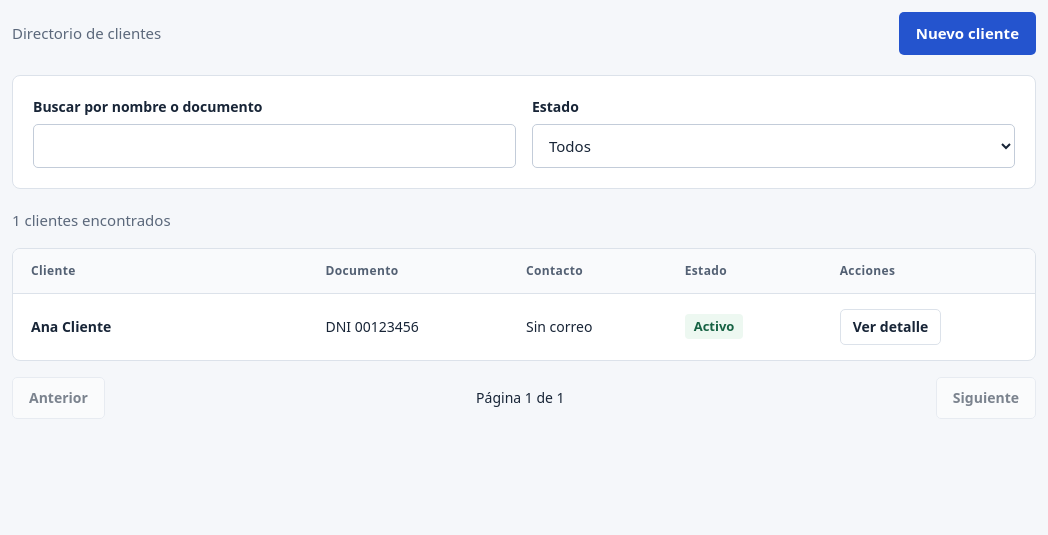
Test: permisos de clientes › confirma desactivación y permite cancelar
Click the button with aria-label "Ver cliente Ana Cliente" at (890, 326), box [840,308,941,344]
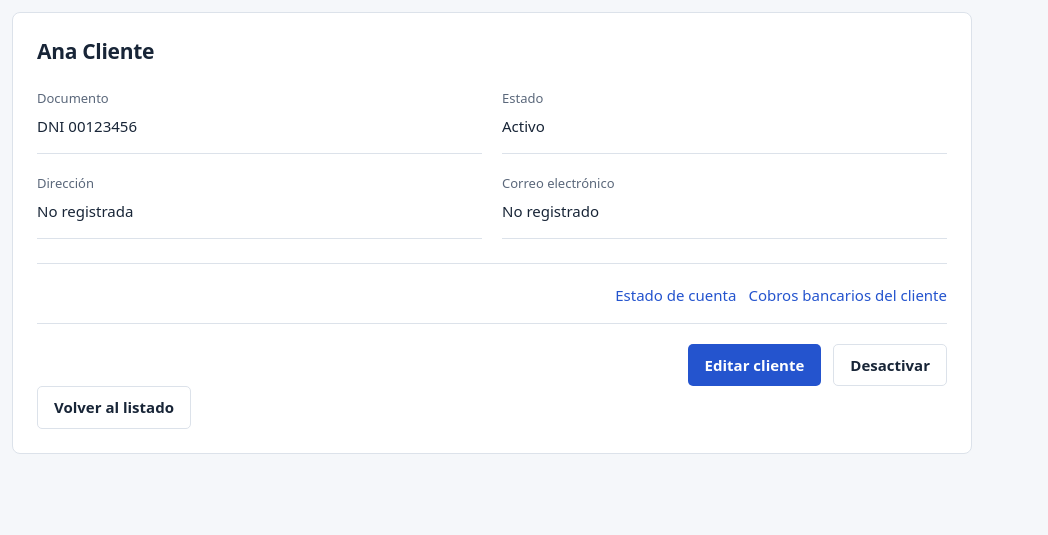
Click the button "Desactivar" at (890, 365), box [833,344,947,386]
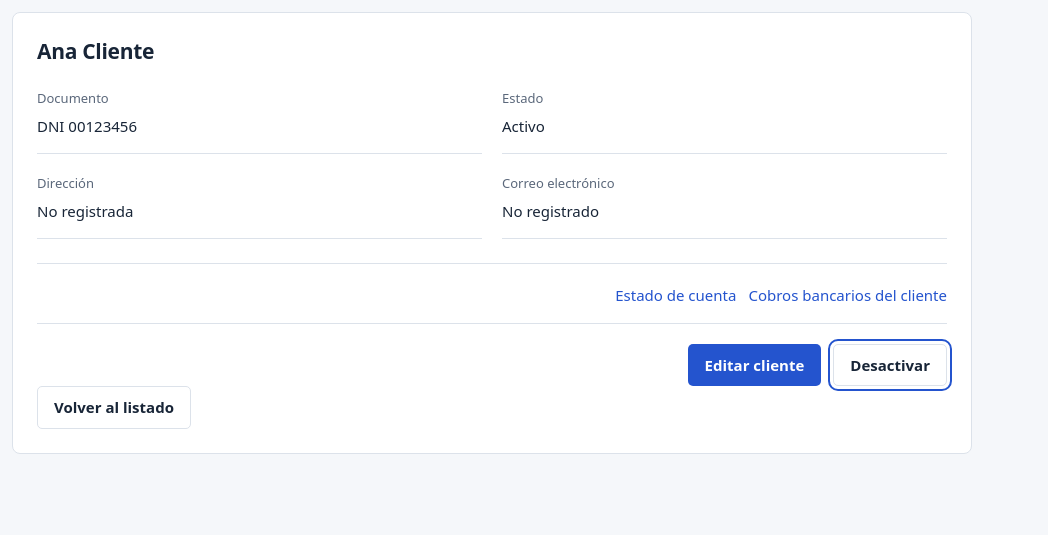
Click the button "Desactivar" at (890, 365), box [833,344,947,386]
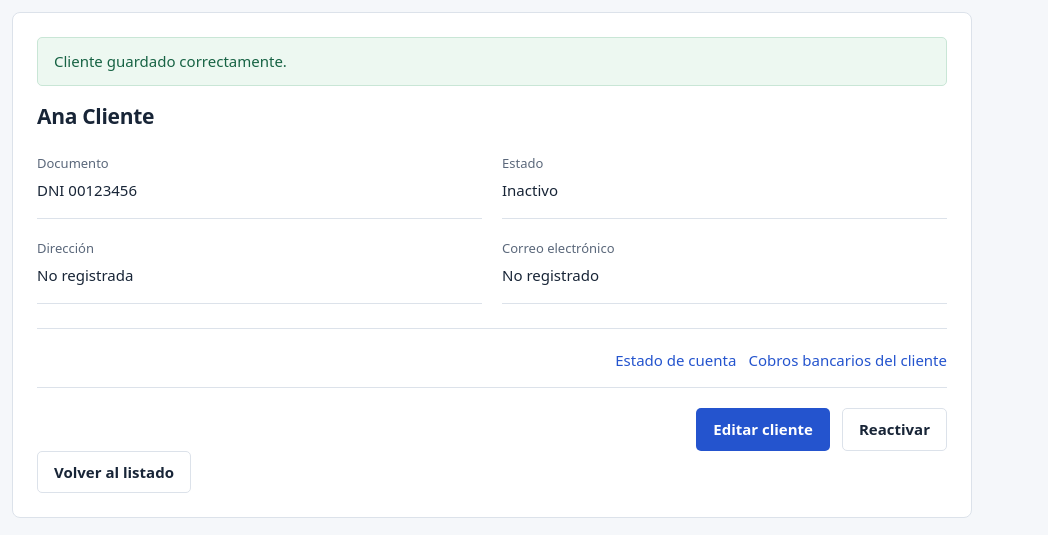
Expected: the button "Reactivar" is shown, [842,408,947,451]
